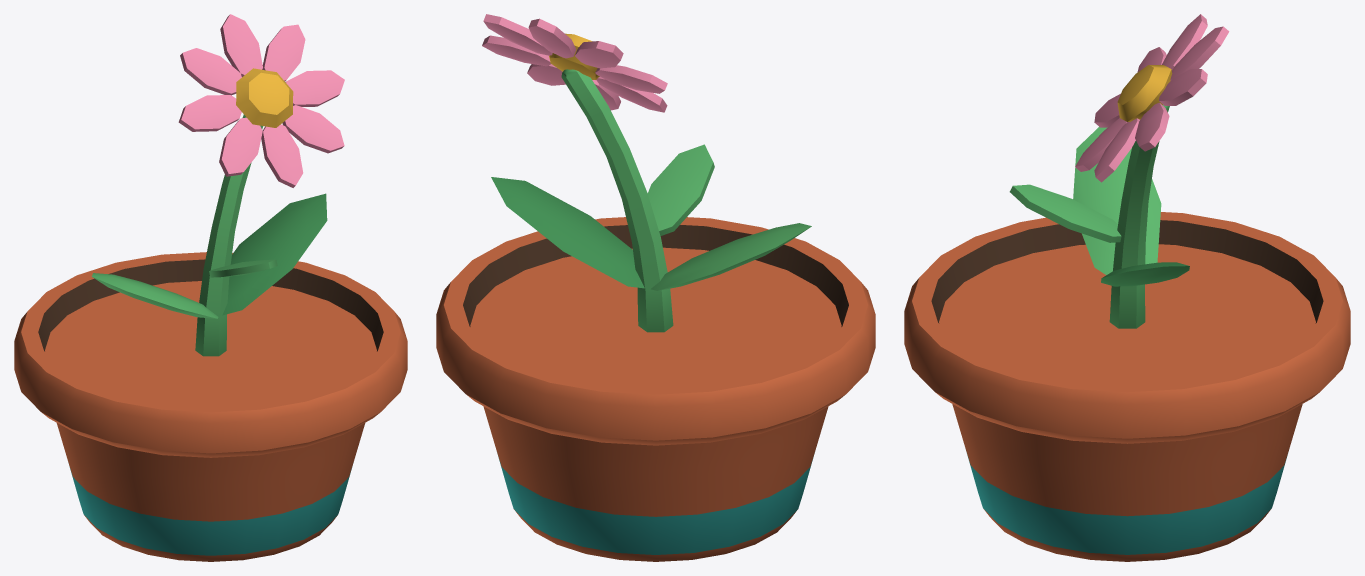
Rendered from hat_flower_pot.glb.
The picture shows the model from 3 angles, left to right: view 1: azimuth 30°, elevation 25°; view 2: azimuth 150°, elevation 25°; view 3: azimuth 270°, elevation 25°; orthographic projection. The views are drawn at different scales.
Visible parts, largest first — view 1: Hat; view 2: Hat; view 3: Hat.
Part boxes in pixels (bbox=[...]): Hat: bbox=[14, 14, 407, 561]; Hat: bbox=[436, 14, 875, 561]; Hat: bbox=[904, 14, 1350, 561].
Bounding box in the file's own units: 0.596 × 0.7514 × 0.596.
